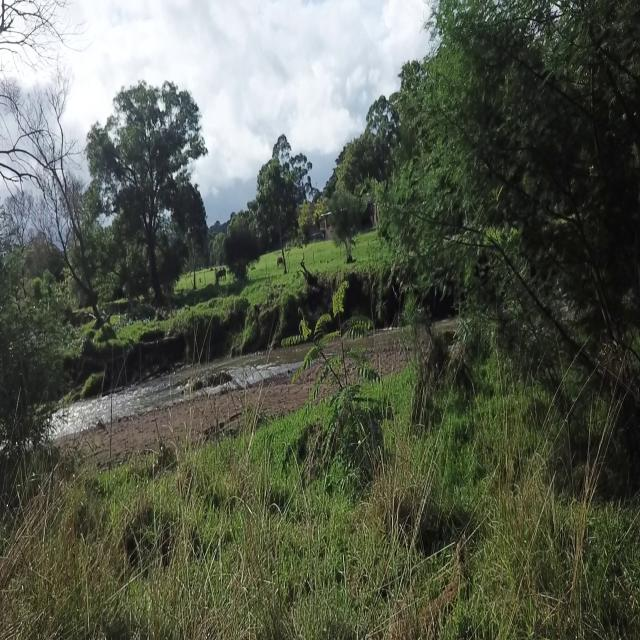Mysore-Thorn-Weed: (277, 277, 389, 468)
